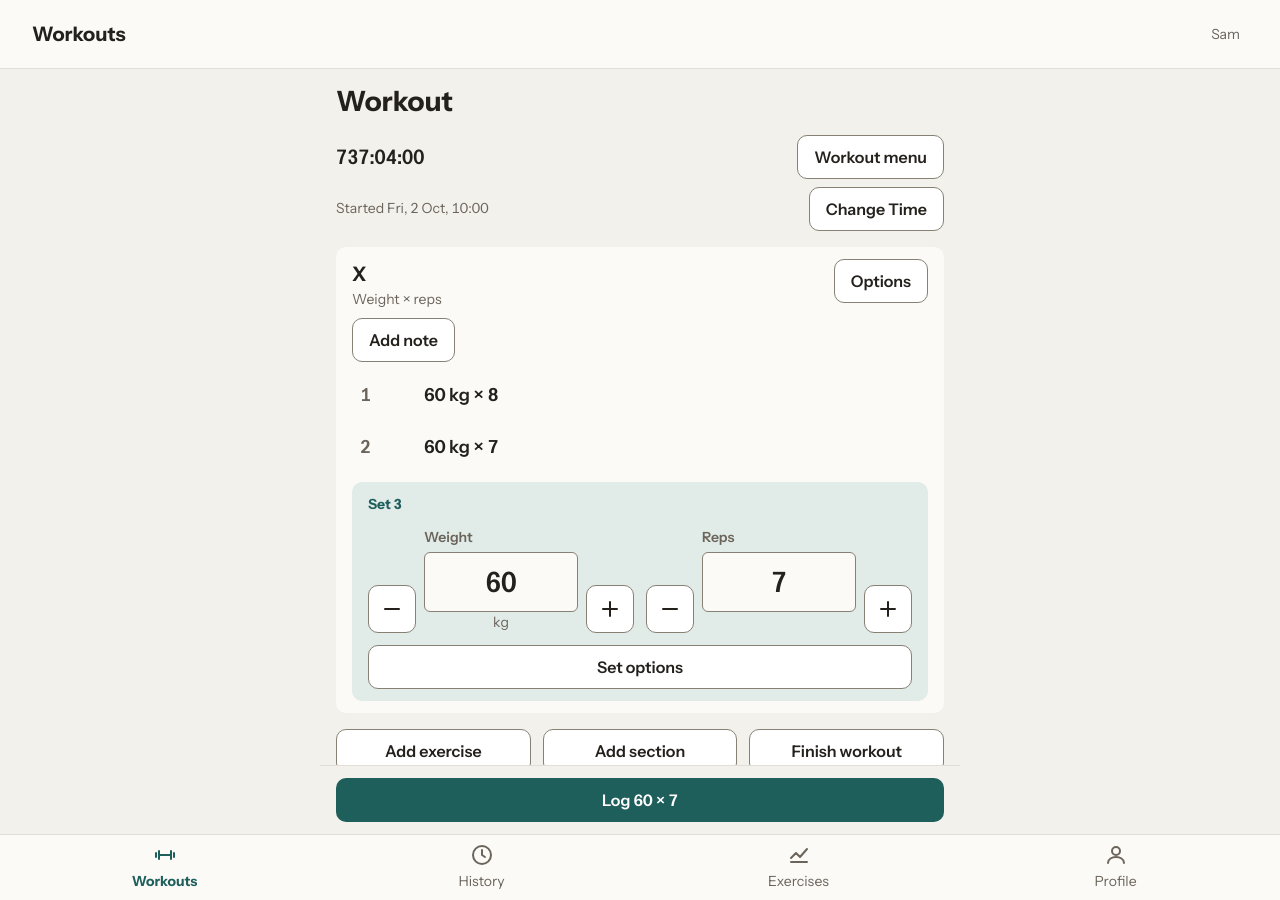
Test case: AC25 — edit and delete a logged set › clearing a required measure blocks Save with a field message
Expected: the heading "Workout" is shown, [336,84,453,118]
Click the button "1 60 kg × 8" at (461, 395), box [352,374,928,418]
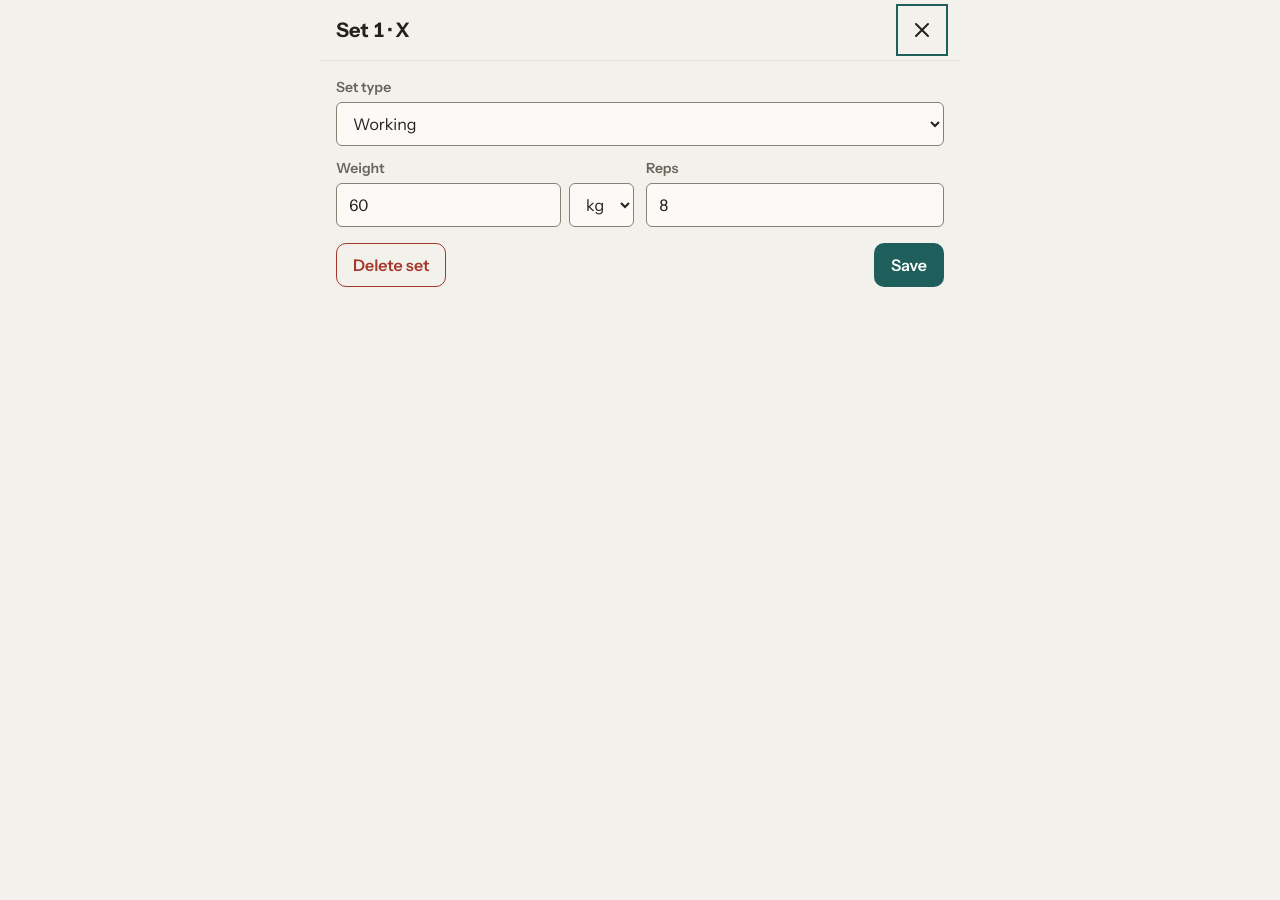
Clear the field labelled "Weight" at (448, 205), box [336,183,561,227]
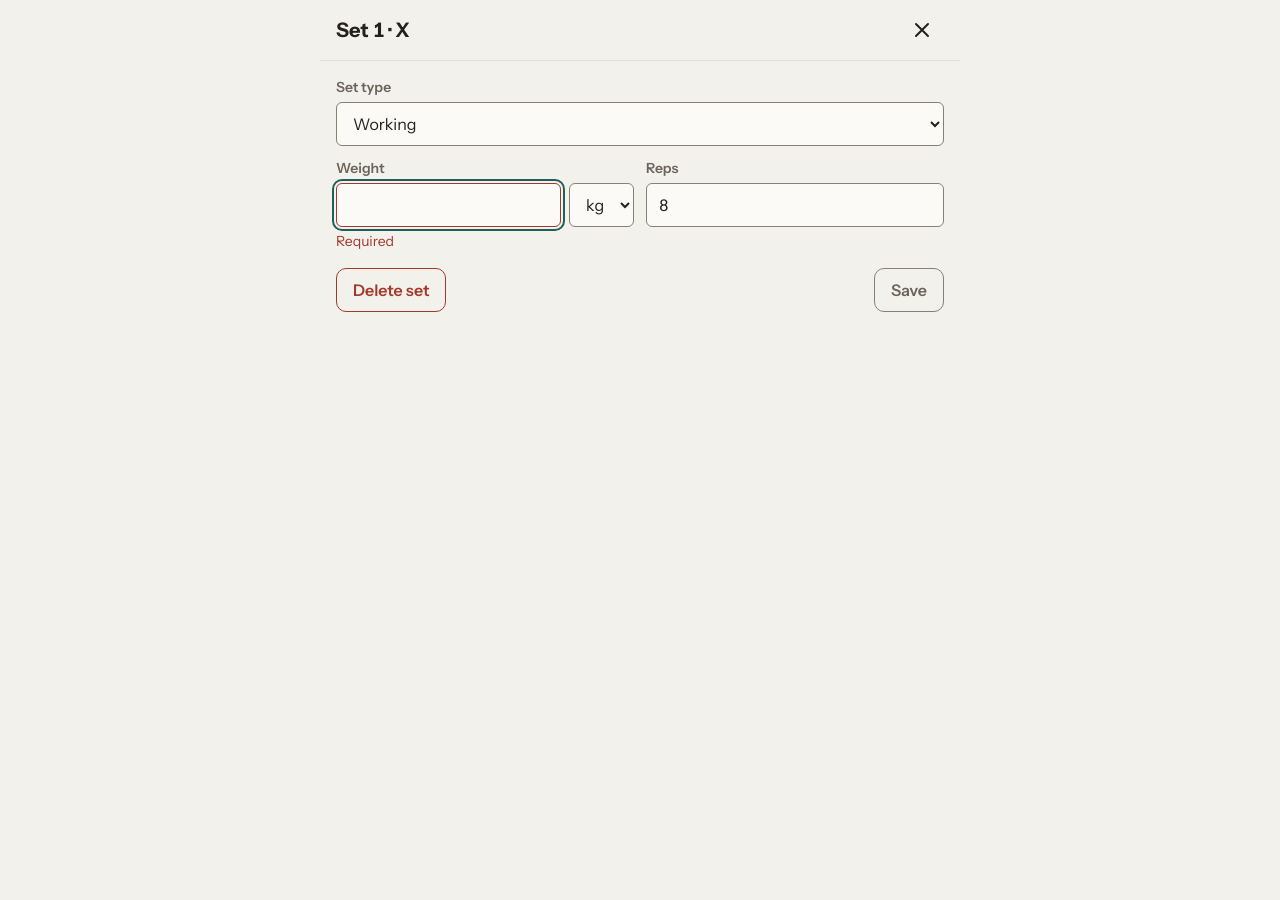
Now the text "Required" is shown, box [336,232,394,250]
Now the button "Save" is disabled, box [874,268,944,312]
